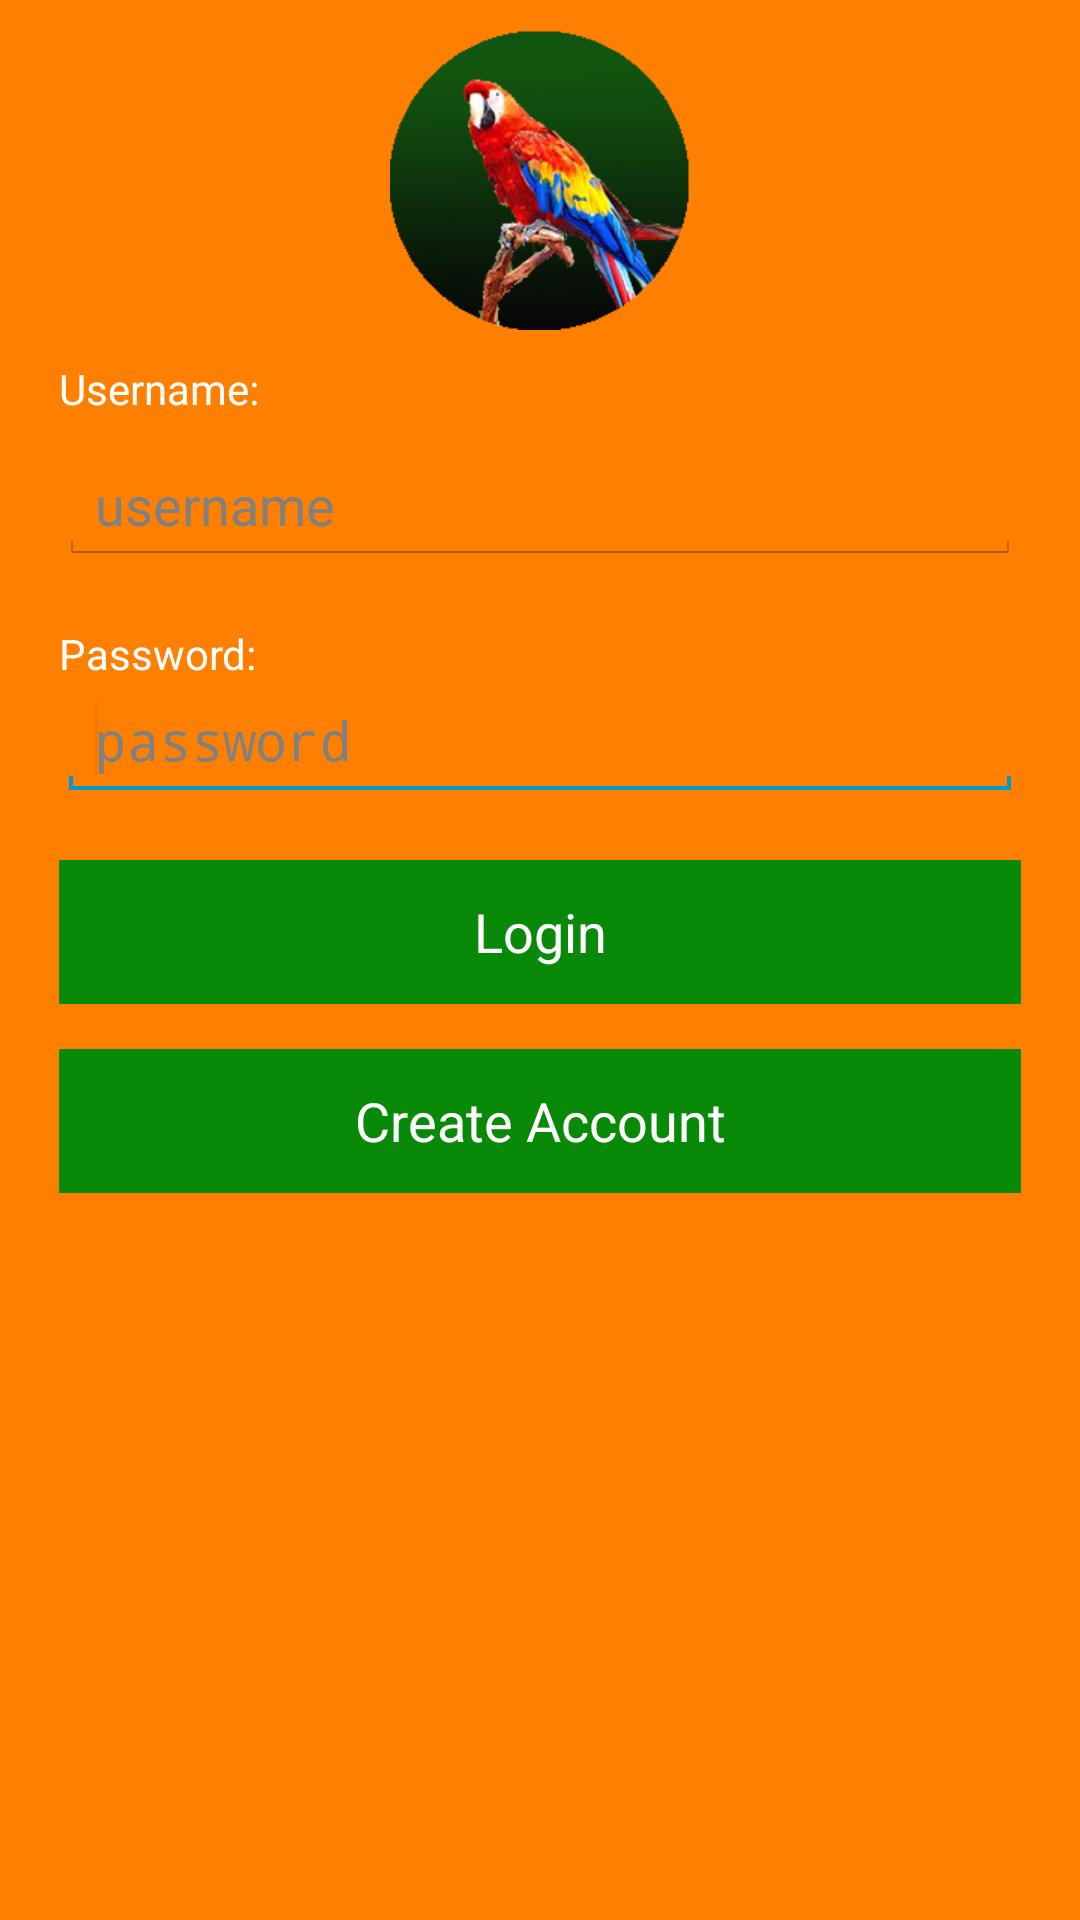

Named icons in this screenshot (1080*1920) and their centers, (x,y):
survey parrot: (539,180)
